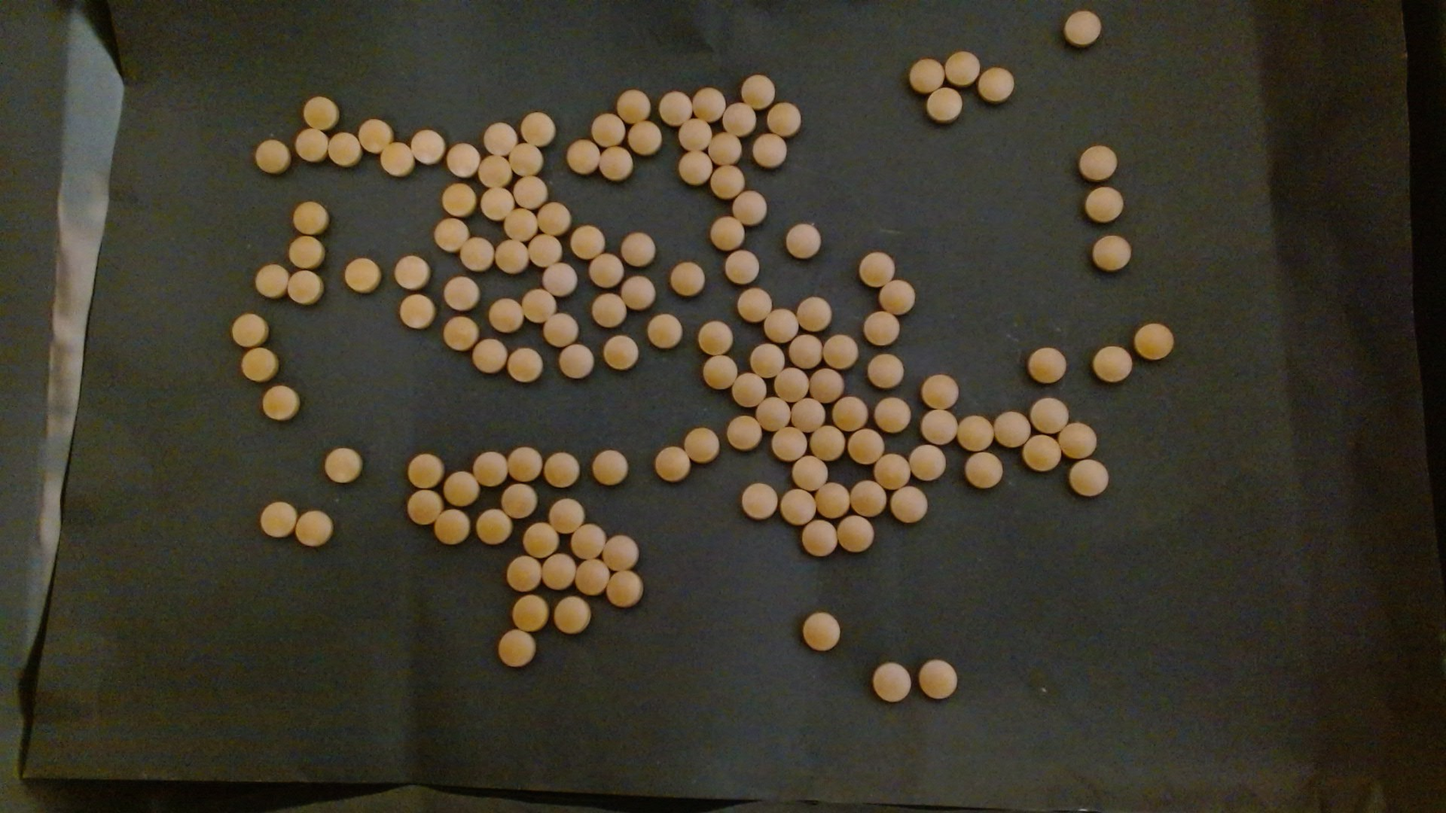Circle: (801, 611, 842, 651), (1068, 458, 1109, 498), (917, 659, 957, 700), (871, 662, 911, 702), (1133, 321, 1174, 360), (322, 446, 363, 484), (497, 629, 536, 668), (1091, 234, 1131, 272), (1026, 346, 1066, 384), (889, 486, 929, 524), (964, 451, 1003, 489), (1030, 396, 1069, 434), (552, 595, 590, 634), (1091, 345, 1131, 382), (1084, 186, 1124, 223), (1078, 144, 1118, 181), (1057, 422, 1097, 459), (1062, 10, 1102, 47), (1022, 434, 1060, 472), (510, 594, 548, 632), (836, 515, 874, 553), (873, 396, 911, 434), (294, 510, 333, 547), (920, 373, 959, 410), (259, 501, 297, 538), (740, 482, 777, 520), (590, 449, 628, 486), (261, 385, 299, 422), (432, 508, 470, 545), (800, 519, 837, 557), (606, 571, 643, 609), (993, 410, 1030, 448), (909, 443, 946, 481), (791, 454, 828, 492), (654, 446, 691, 483), (784, 222, 821, 259), (908, 56, 945, 93), (956, 415, 993, 452), (253, 138, 290, 175), (407, 452, 444, 489), (506, 554, 543, 591), (602, 534, 639, 571), (920, 408, 957, 445), (669, 260, 706, 297), (874, 452, 911, 489), (749, 342, 786, 379), (343, 257, 381, 293), (867, 352, 905, 388), (977, 66, 1014, 102), (858, 250, 895, 286), (286, 269, 323, 305), (543, 452, 580, 488), (602, 334, 639, 370), (751, 132, 787, 169), (398, 293, 435, 329), (291, 199, 328, 235), (471, 337, 507, 374), (407, 489, 444, 525), (731, 189, 767, 226), (620, 231, 657, 267), (697, 319, 733, 356), (506, 446, 542, 483), (730, 371, 767, 407), (810, 423, 847, 459), (831, 394, 867, 431), (240, 347, 278, 382), (230, 312, 268, 347), (863, 311, 901, 346), (476, 509, 512, 545), (944, 50, 980, 86), (780, 489, 816, 525), (879, 279, 915, 315), (548, 498, 584, 534), (393, 254, 429, 290), (253, 263, 289, 299), (574, 559, 610, 595), (709, 215, 745, 251), (500, 482, 536, 518), (408, 128, 444, 164), (850, 480, 886, 516), (814, 483, 850, 519), (487, 297, 523, 333), (755, 396, 791, 432), (789, 397, 825, 433), (849, 428, 885, 464), (473, 450, 508, 487), (677, 117, 712, 154), (926, 87, 962, 122), (508, 347, 543, 383), (558, 344, 594, 379), (726, 415, 761, 451), (590, 293, 626, 328), (677, 150, 712, 186), (302, 94, 338, 129), (598, 145, 633, 181), (326, 130, 361, 166), (541, 553, 576, 589), (571, 523, 606, 559), (647, 313, 682, 349), (442, 315, 478, 350), (740, 73, 776, 108), (357, 118, 392, 154), (443, 275, 478, 311), (736, 287, 772, 322), (823, 333, 858, 369), (657, 90, 692, 126), (520, 111, 556, 146), (588, 252, 623, 288), (773, 367, 809, 402), (440, 182, 476, 217), (433, 216, 468, 252), (294, 126, 328, 163), (288, 235, 325, 269), (767, 101, 801, 138), (789, 333, 823, 370), (522, 522, 557, 557), (444, 471, 479, 506), (724, 250, 759, 285), (797, 296, 832, 331), (703, 355, 738, 390), (543, 312, 578, 347), (621, 275, 656, 310), (772, 427, 807, 462), (763, 308, 798, 343), (493, 239, 528, 274), (522, 288, 557, 323), (459, 236, 494, 271), (570, 224, 605, 259), (710, 164, 745, 199), (477, 154, 512, 189), (809, 368, 844, 403), (685, 427, 719, 463), (708, 130, 742, 166), (511, 175, 547, 209), (691, 87, 725, 123), (565, 139, 599, 174), (483, 121, 517, 156), (722, 101, 756, 136), (590, 112, 624, 147), (480, 186, 514, 221), (508, 141, 543, 175), (503, 207, 537, 242), (536, 201, 570, 236), (379, 141, 413, 175), (617, 89, 651, 123), (627, 120, 661, 154), (543, 262, 577, 296), (447, 143, 480, 178), (527, 233, 560, 268)
